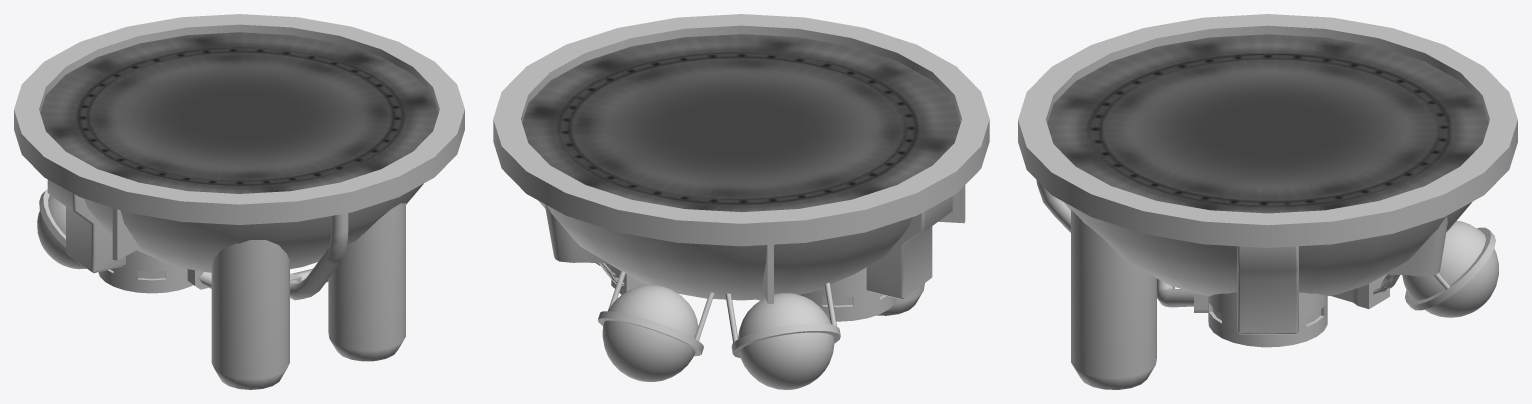
File: bluedog_Centaur_EngineMountA.dae
3 views of the same model, side by side, from view 1: azimuth 30°, elevation 25°; view 2: azimuth 150°, elevation 25°; view 3: azimuth 270°, elevation 25° (orthographic). The views are drawn at different scales.
Parts seen in each view (by area): view 1: polySurface37, polySurface36; view 2: polySurface37, polySurface36; view 3: polySurface37, polySurface36.
Part boxes in pixels (box(x1,y1,x2,y2)): polySurface37: box(14, 14, 464, 389); polySurface36: box(40, 32, 438, 193); polySurface37: box(493, 14, 989, 389); polySurface36: box(522, 34, 960, 212); polySurface37: box(1018, 14, 1517, 389); polySurface36: box(1047, 34, 1488, 213).
Size of what is drawn, in the model's own units: 1.88 by 0.9486 by 1.88.
